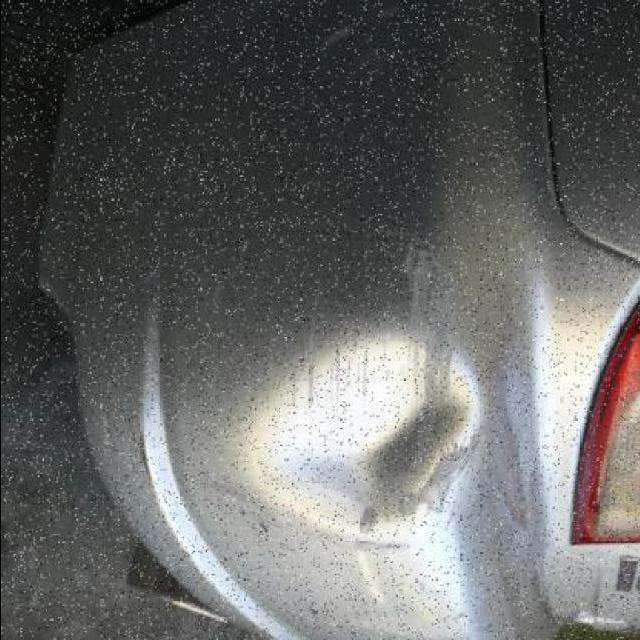rear-bumper-dent: (1, 9, 551, 639)
